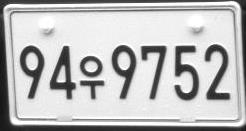2: (203, 43, 230, 100)
4: (49, 45, 76, 99)
5: (173, 44, 200, 101)
7: (140, 44, 167, 100)
9: (18, 45, 45, 99), (111, 44, 136, 99)
우: (78, 54, 104, 99)
